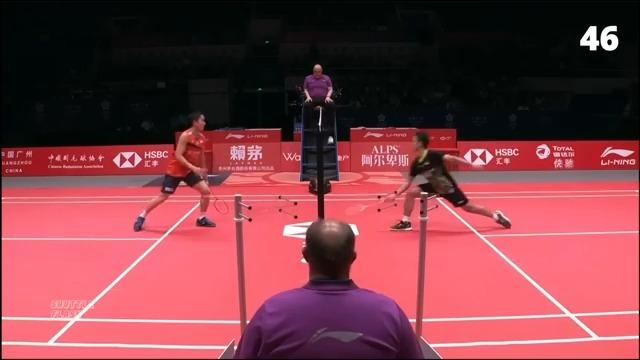Shuttlecock: (326, 134, 340, 146)
